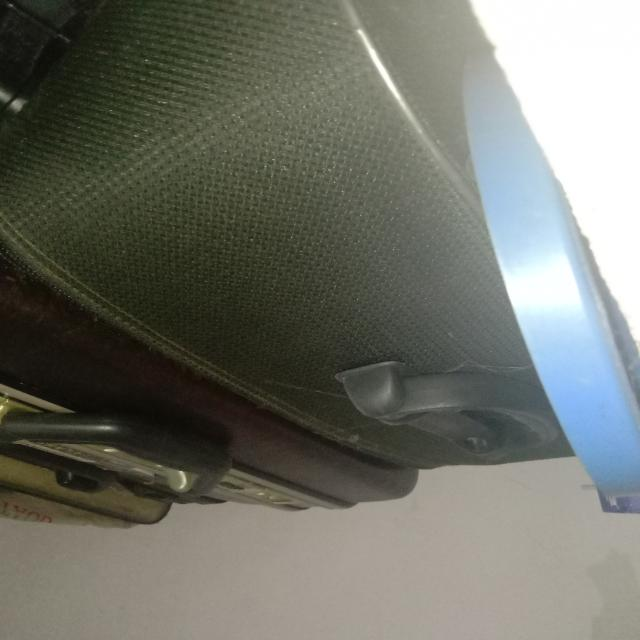suitcaserotation: (0, 0, 576, 539), (0, 285, 422, 514)
